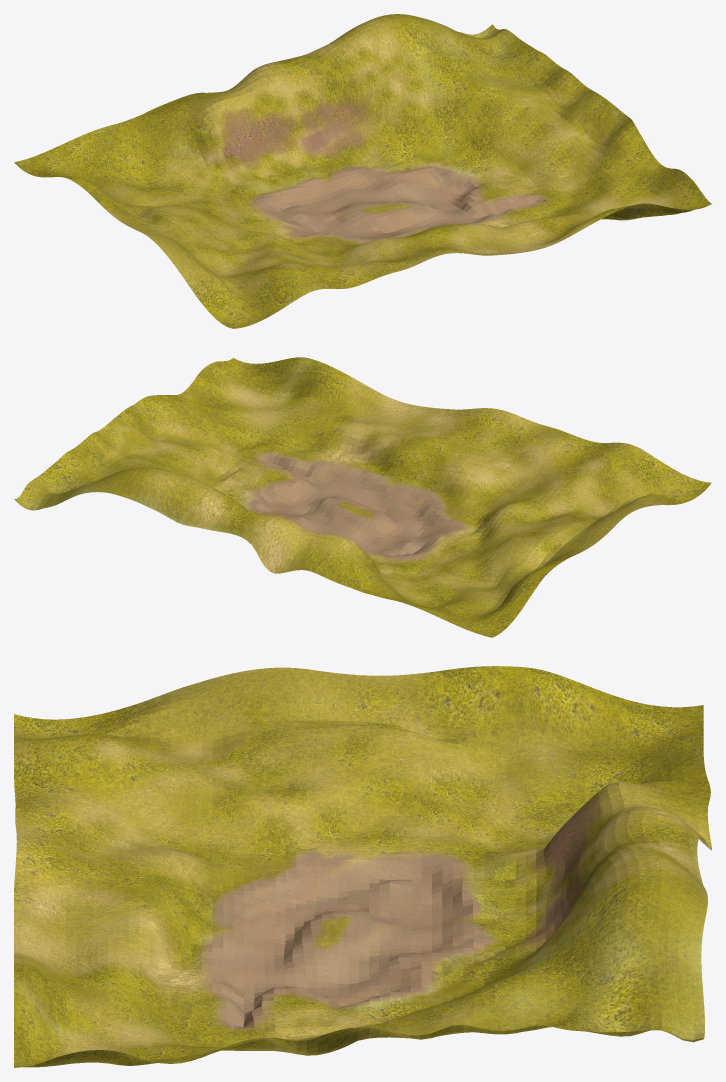
The model's file is terrain.glb.
The picture shows the model from 3 angles, top to bottom: view 1: azimuth 30°, elevation 25°; view 2: azimuth 150°, elevation 25°; view 3: azimuth 270°, elevation 25°; orthographic projection. The views are drawn at different scales.
Visible parts, largest first — view 1: terrain; view 2: terrain; view 3: terrain.
Part boxes in pixels (bbox=[...]): terrain: bbox=[14, 14, 711, 328]; terrain: bbox=[14, 357, 711, 637]; terrain: bbox=[14, 666, 711, 1067].
Bounding box in the file's own units: 298 × 58.54 × 237.
1 material, 1 textured.
